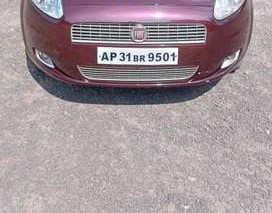AP31BR9501: (96, 45, 179, 63)
